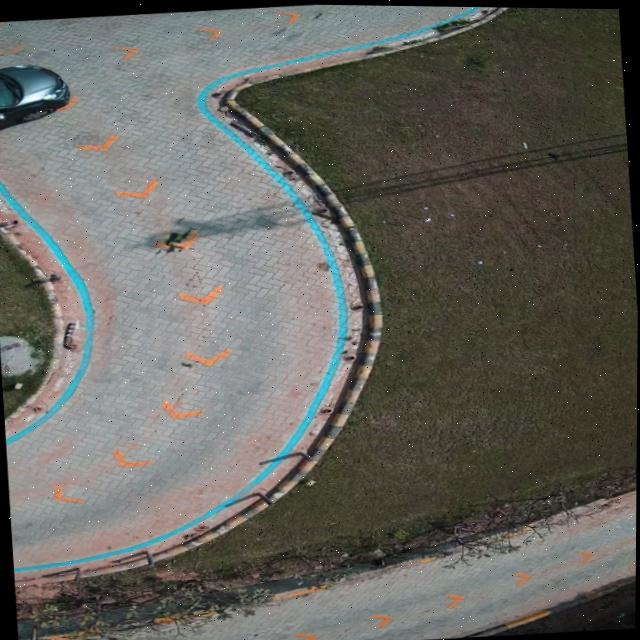car: (0, 64, 69, 122)
